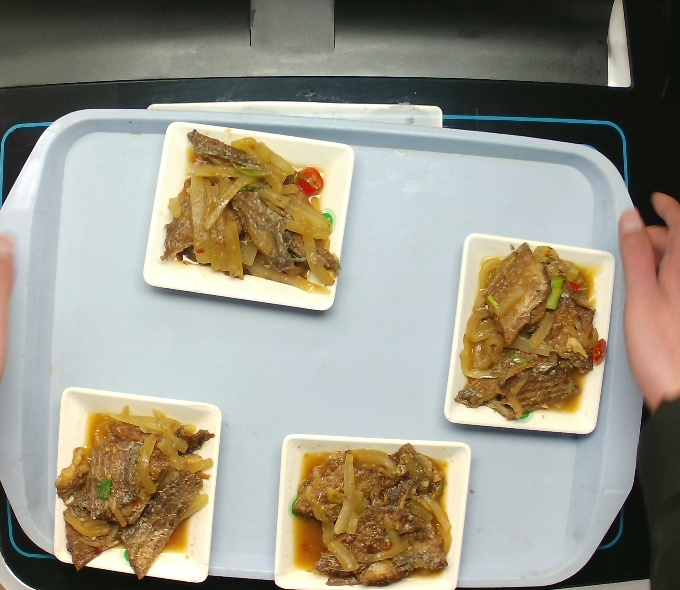wcq-DaiYu: (146, 132, 354, 307), (450, 241, 608, 425), (53, 396, 211, 580), (278, 439, 452, 590)
